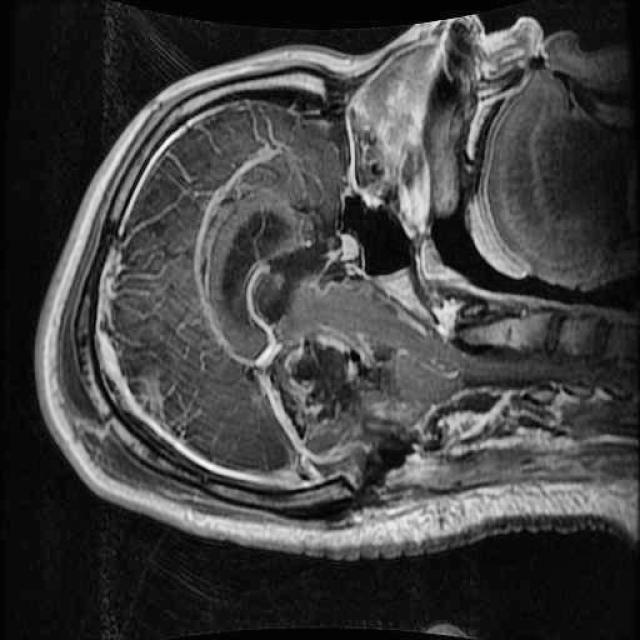Tumor: (247, 316, 429, 475)
